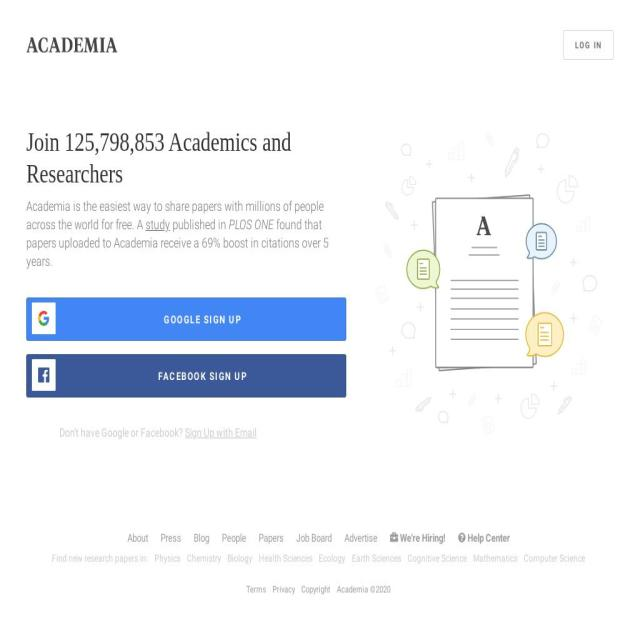button: (26, 353, 346, 398), (26, 297, 346, 341), (563, 30, 614, 60)
heading: (26, 125, 346, 189)
image: (364, 116, 614, 450), (27, 38, 118, 52), (32, 359, 56, 392), (32, 303, 56, 335)
link: (185, 425, 257, 439), (524, 553, 585, 564), (407, 553, 467, 564), (258, 553, 312, 564), (400, 532, 446, 544), (352, 553, 401, 564), (467, 532, 510, 544), (473, 553, 518, 564), (296, 532, 332, 544), (343, 532, 378, 544), (146, 216, 170, 232), (187, 553, 221, 564), (301, 584, 331, 595), (258, 532, 284, 544), (318, 553, 346, 564), (222, 532, 246, 544), (154, 553, 180, 564), (228, 553, 252, 564), (127, 532, 148, 544), (160, 532, 181, 544), (273, 584, 295, 595), (246, 584, 266, 595), (193, 532, 209, 544)
text: (26, 216, 329, 269), (26, 198, 324, 232), (60, 425, 186, 439), (49, 550, 151, 567), (158, 369, 247, 383), (164, 312, 241, 326), (334, 582, 394, 598), (170, 216, 229, 232), (228, 216, 274, 232)
